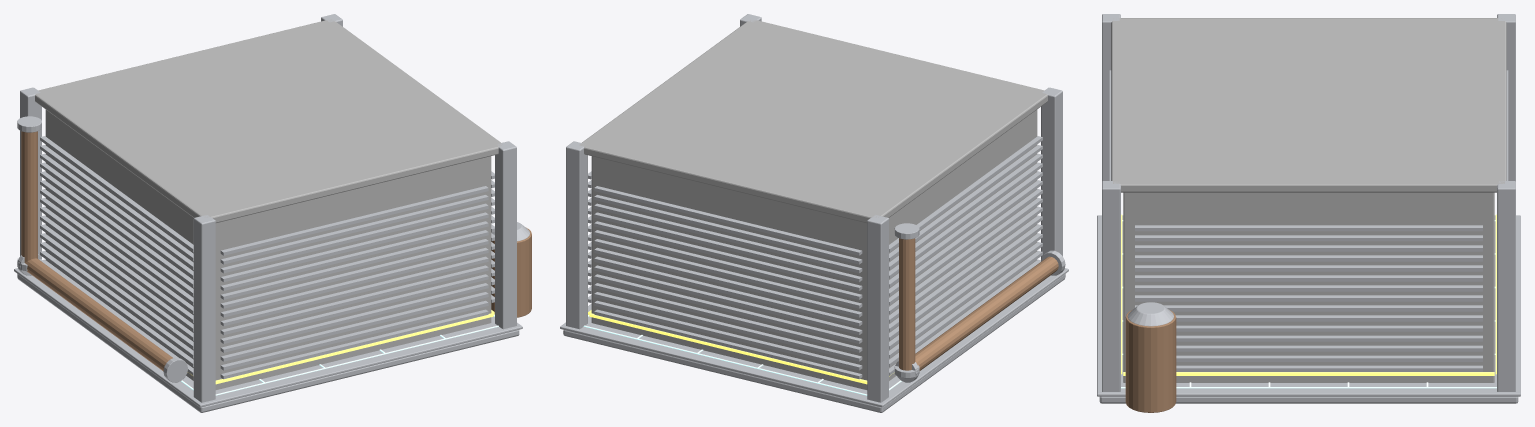
Rendered from mech_5x5_concrete.glb.
3 renders of one model, left to right at view 1: azimuth 30°, elevation 25°; view 2: azimuth 150°, elevation 25°; view 3: azimuth 270°, elevation 25°, orthographic. The views are drawn at different scales.
Visible parts, largest first — view 1: int_ceiling, ext_core, ext_louver3, ext_louver2, int_columns, int_slab_edge, int_slab, ext_bigpipe, ext_bigpipe2, ext_tank, ext_mech_glow, int_grid (+1 smaller); view 2: int_ceiling, ext_core, ext_louver1, ext_louver2, int_columns, int_slab_edge, int_slab, ext_bigpipe, ext_bigpipe2, ext_mech_glow, int_grid; view 3: int_ceiling, ext_core, ext_louver0, int_columns, int_slab_edge, ext_tank, int_slab, ext_mech_glow, ext_tank_cap, int_grid.
Boxes of the visible parts, bbox=[...] form: int_ceiling: bbox=[35, 19, 502, 222]; ext_core: bbox=[45, 110, 491, 389]; ext_louver3: bbox=[220, 186, 488, 379]; ext_louver2: bbox=[40, 136, 193, 375]; int_columns: bbox=[20, 14, 516, 402]; int_slab_edge: bbox=[14, 268, 522, 407]; int_slab: bbox=[17, 274, 519, 412]; ext_bigpipe: bbox=[25, 258, 172, 371]; ext_bigpipe2: bbox=[21, 131, 37, 262]; ext_tank: bbox=[491, 227, 531, 317]; ext_mech_glow: bbox=[191, 310, 494, 384]; int_grid: bbox=[181, 315, 498, 395]; int_ceiling: bbox=[579, 20, 1047, 223]; ext_core: bbox=[591, 109, 1037, 389]; ext_louver1: bbox=[594, 186, 862, 379]; ext_louver2: bbox=[889, 136, 1042, 375]; int_columns: bbox=[566, 14, 1062, 402]; int_slab_edge: bbox=[560, 268, 1068, 407]; int_slab: bbox=[563, 274, 1065, 412]; ext_bigpipe: bbox=[915, 256, 1058, 370]; ext_bigpipe2: bbox=[899, 238, 915, 370]; ext_mech_glow: bbox=[588, 310, 894, 384]; int_grid: bbox=[583, 315, 901, 395]; int_ceiling: bbox=[1111, 18, 1506, 192]; ext_core: bbox=[1123, 192, 1494, 382]; ext_louver0: bbox=[1135, 225, 1482, 371]; int_columns: bbox=[1102, 14, 1515, 391]; int_slab_edge: bbox=[1097, 215, 1520, 396]; ext_tank: bbox=[1125, 310, 1176, 412]; int_slab: bbox=[1099, 396, 1518, 403]; ext_mech_glow: bbox=[1121, 214, 1496, 375]; ext_tank_cap: bbox=[1127, 302, 1173, 326]; int_grid: bbox=[1121, 220, 1496, 388].
Bounding box in the file's own units: 6.1 × 3 × 5.36.
